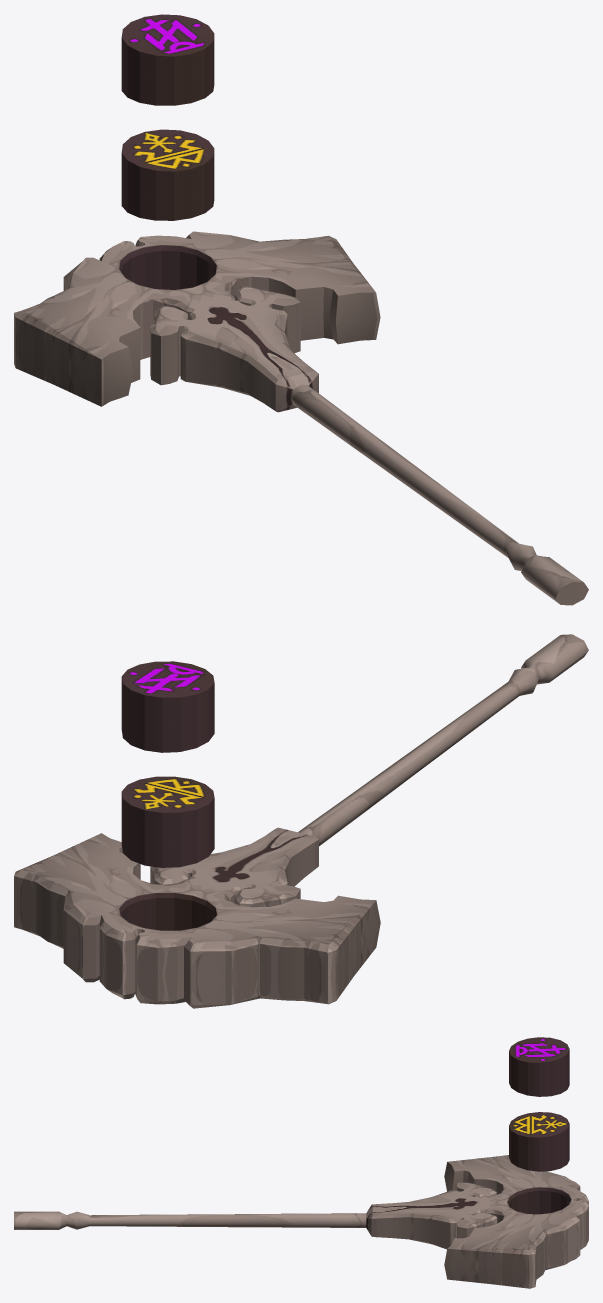
Rendered from aira0.glb.
The picture shows the model from 3 angles, top to bottom: view 1: azimuth 30°, elevation 25°; view 2: azimuth 150°, elevation 25°; view 3: azimuth 270°, elevation 25°; orthographic projection. The views are drawn at different scales.
Parts seen in each view (by area): view 1: CH_Aira_WP_Base; view 2: CH_Aira_WP_Base; view 3: CH_Aira_WP_Base.
Part boxes in pixels (x1=…): CH_Aira_WP_Base: x1=14, y1=14, x2=588, y2=605; CH_Aira_WP_Base: x1=14, y1=634, x2=588, y2=1008; CH_Aira_WP_Base: x1=14, y1=1037, x2=588, y2=1288.
Size of the model in its own units: 0.8935 by 0.7907 by 2.14.
1 material, 1 textured.
